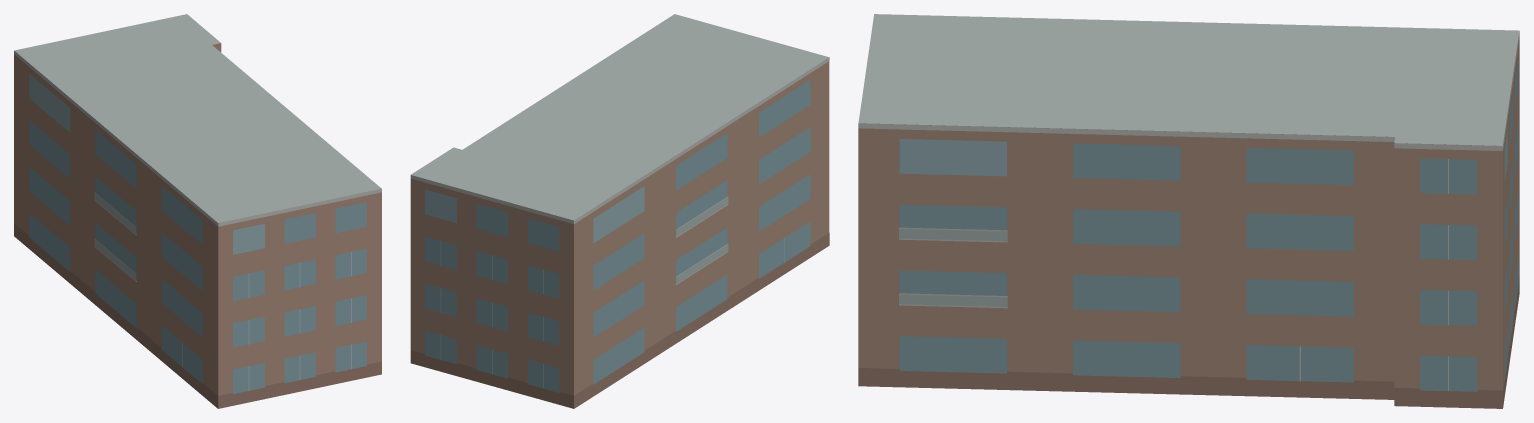
Rendered from survey-upis-32839594.glb.
The picture shows the model from 3 angles, left to right: view 1: azimuth 30°, elevation 25°; view 2: azimuth 150°, elevation 25°; view 3: azimuth 270°, elevation 25°; orthographic projection. The views are drawn at different scales.
Parts seen in each view (by area): view 1: survey-upis-32839594.tmp; view 2: survey-upis-32839594.tmp; view 3: survey-upis-32839594.tmp.
Part boxes in pixels (x1,y1,x2,y2): survey-upis-32839594.tmp: [14, 14, 381, 408]; survey-upis-32839594.tmp: [410, 14, 829, 408]; survey-upis-32839594.tmp: [858, 14, 1519, 408].
Size of the model in its own units: 13.35 by 12.4 by 28.27.
